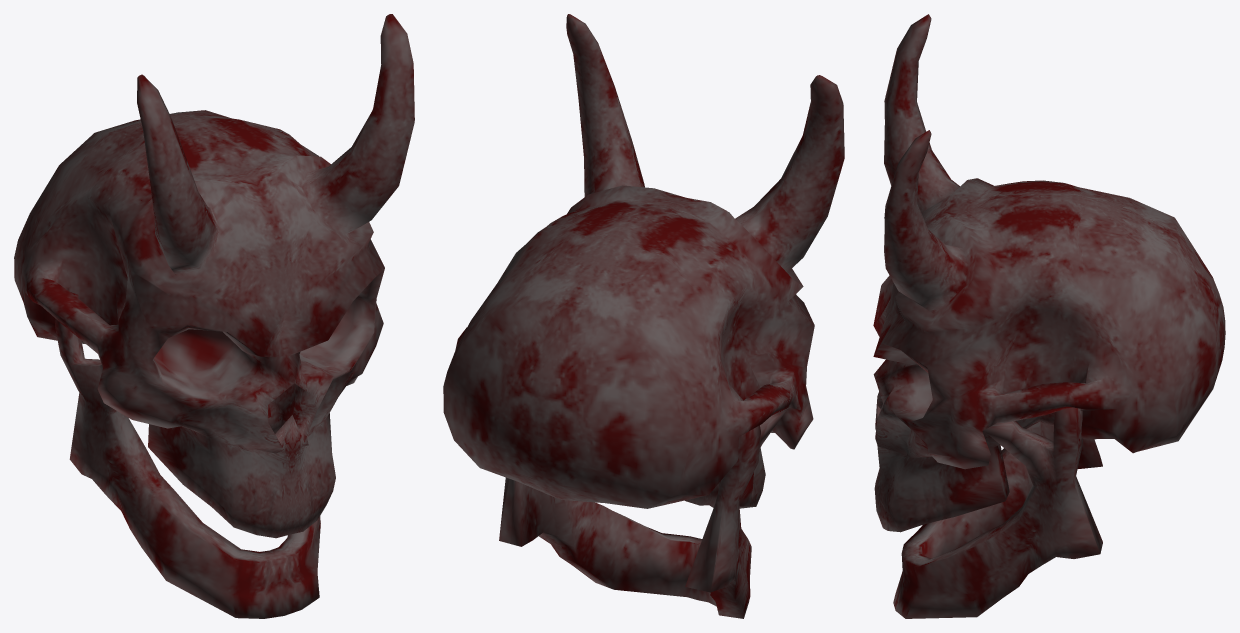
The model's file is skullMelhor.obj.
The picture shows the model from 3 angles, left to right: view 1: azimuth 30°, elevation 25°; view 2: azimuth 150°, elevation 25°; view 3: azimuth 270°, elevation 25°; orthographic projection. The views are drawn at different scales.
Parts seen in each view (by area): view 1: skull; view 2: skull; view 3: skull.
Part boxes in pixels (x1,y1,x2,y2): skull: (14,14,414,618); skull: (443,14,844,618); skull: (873,14,1225,618).
Bounding box in the file's own units: 2.5 × 4.26 × 2.57.
